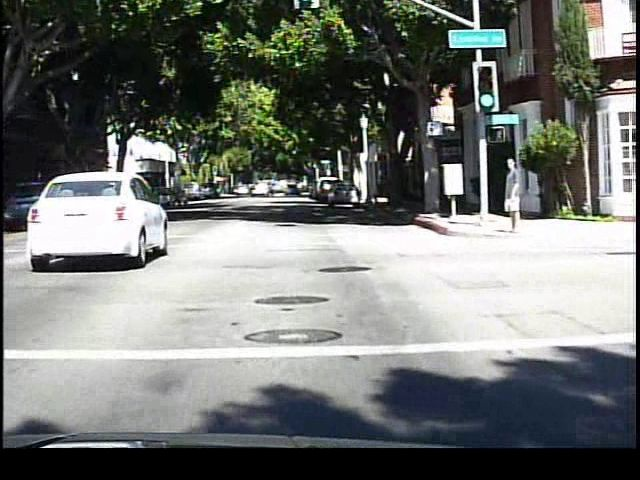person: (499, 152, 526, 237)
